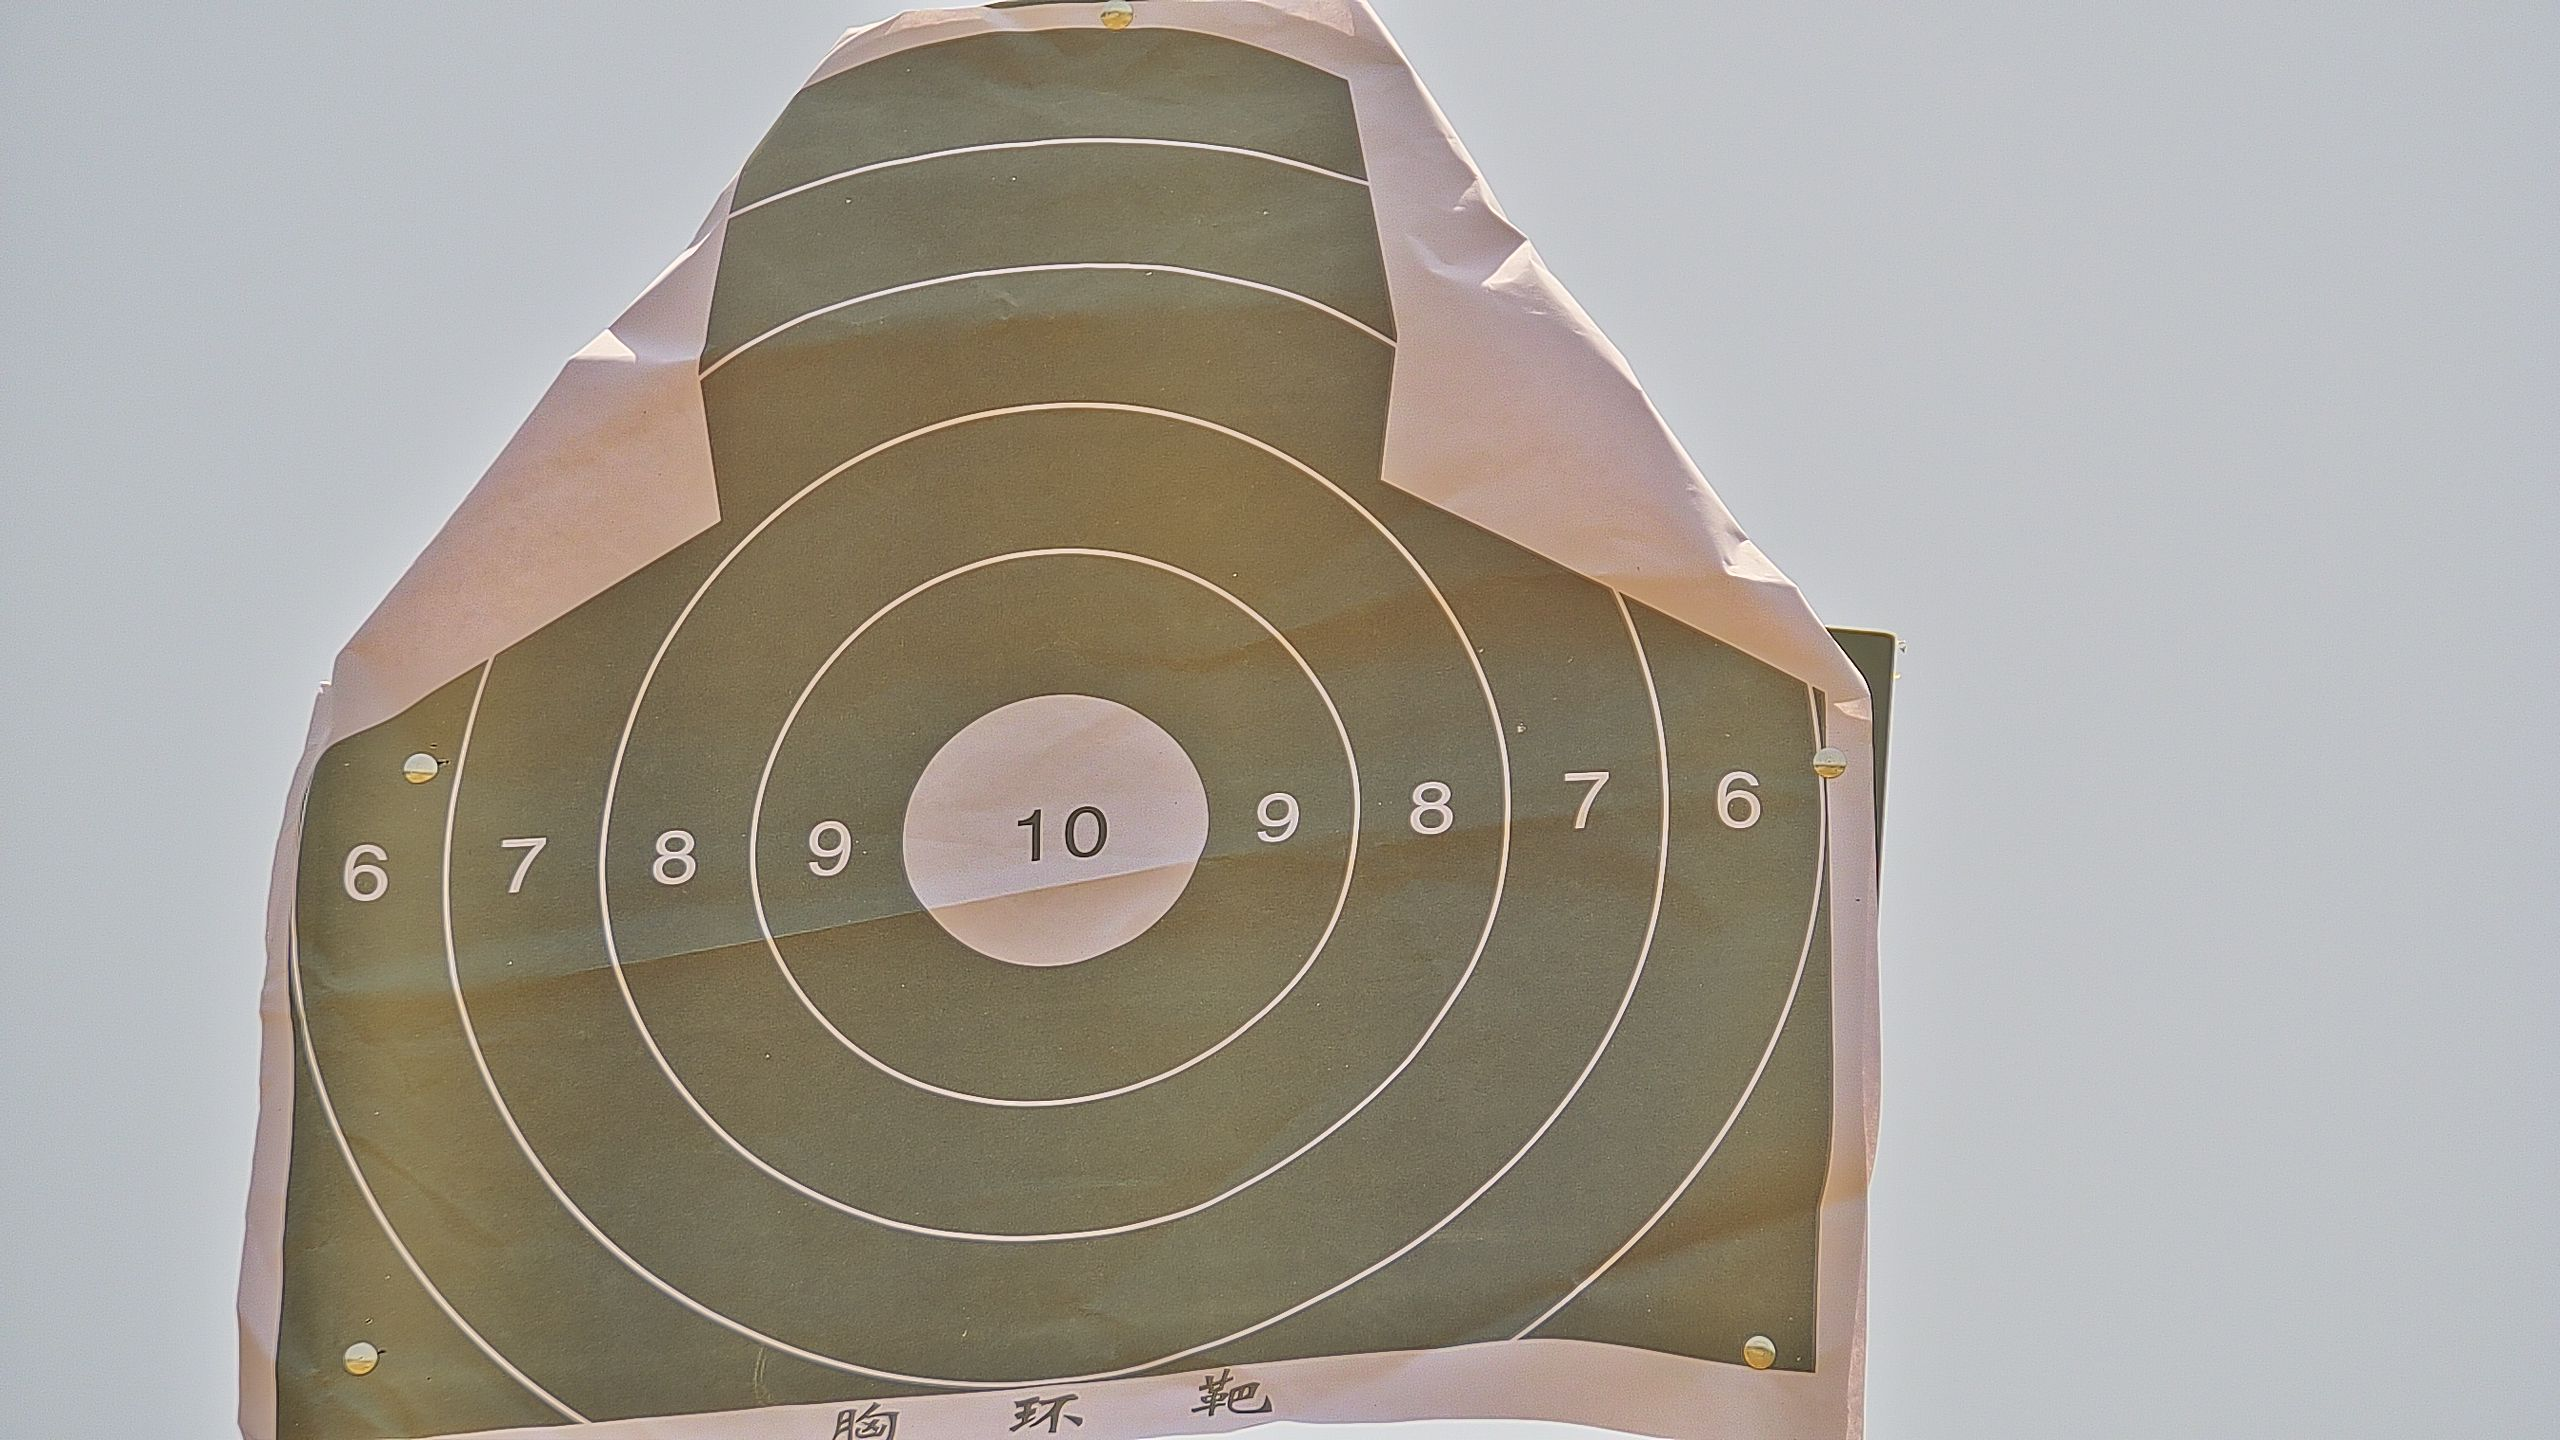kernel: (1046, 828, 1057, 837)
target: (276, 32, 1832, 1440)
ten: (900, 689, 1211, 969)
